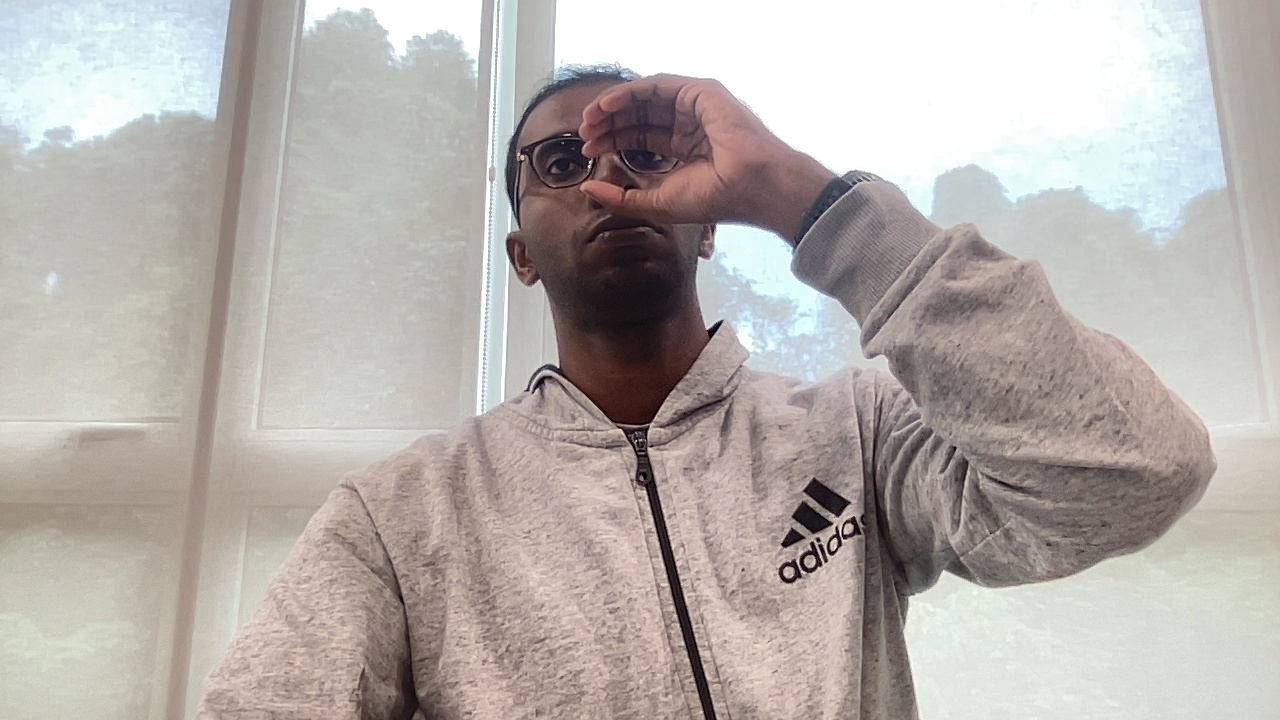drink: (571, 66, 788, 231)
